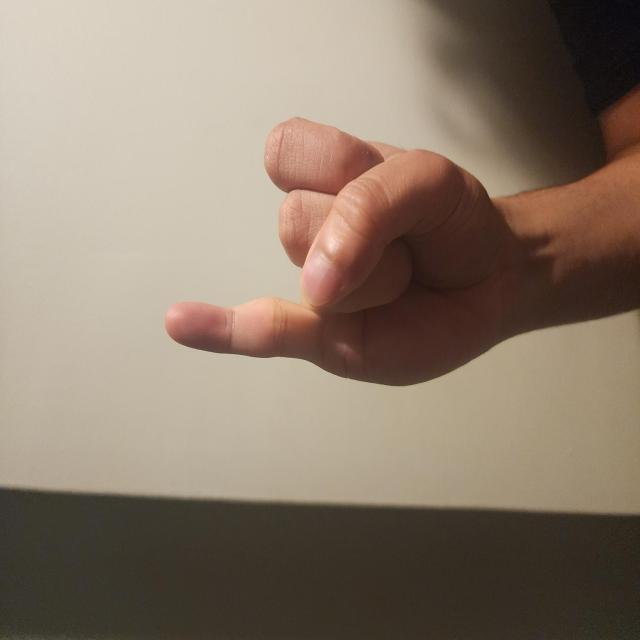I: (179, 211, 394, 640)
